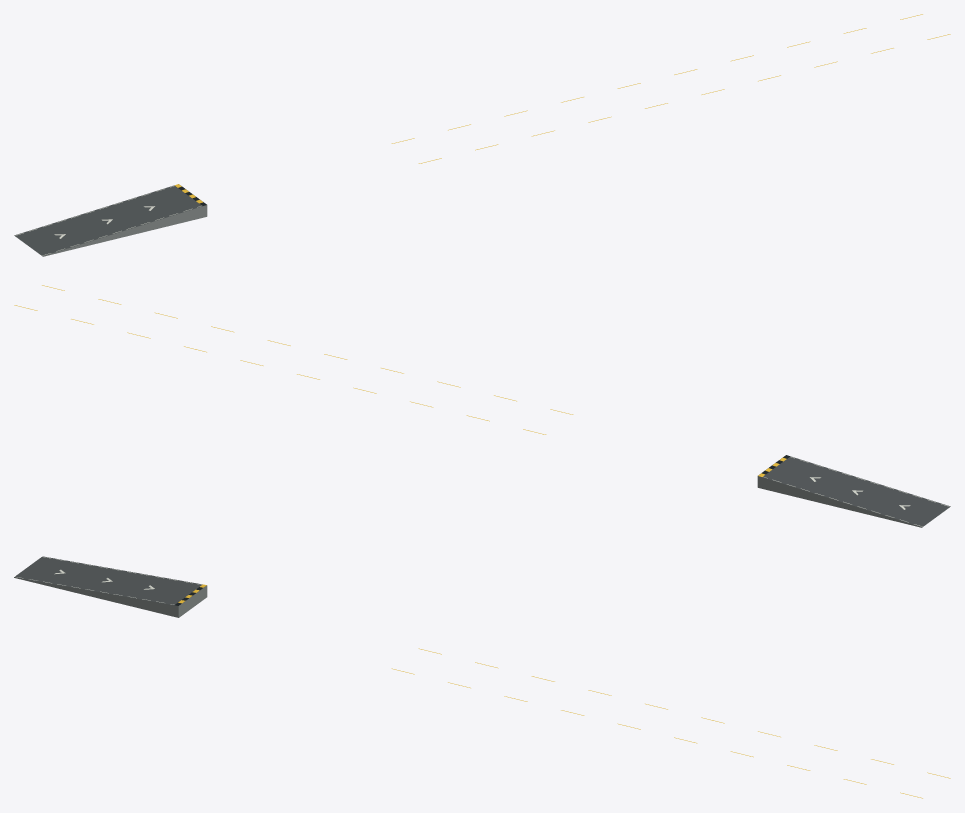
Rendered from Highland_AirtimeRamp.glb.
3 renders of one model, top to bottom at view 1: azimuth 30°, elevation 25°; view 2: azimuth 150°, elevation 25°; view 3: azimuth 330°, elevation 25°, orthographic.
Visible parts, largest first — view 1: Highland_AirtimeRamp_Ramp_asphalt_aggregate, Highland_AirtimeRamp_Ramp_precast_side_concrete, Highland_AirtimeRamp_Ramp_hazard_warm_yellow; view 2: Highland_AirtimeRamp_Ramp_asphalt_aggregate, Highland_AirtimeRamp_Ramp_precast_side_concrete, Highland_AirtimeRamp_Ramp_hazard_warm_yellow; view 3: Highland_AirtimeRamp_Ramp_asphalt_aggregate, Highland_AirtimeRamp_Ramp_precast_side_concrete, Highland_AirtimeRamp_Ramp_hazard_warm_yellow.
Part boxes in pixels (bbox=[...]): Highland_AirtimeRamp_Ramp_asphalt_aggregate: bbox=[14, 185, 206, 256]; Highland_AirtimeRamp_Ramp_precast_side_concrete: bbox=[42, 205, 207, 256]; Highland_AirtimeRamp_Ramp_hazard_warm_yellow: bbox=[174, 14, 950, 203]; Highland_AirtimeRamp_Ramp_asphalt_aggregate: bbox=[758, 456, 950, 527]; Highland_AirtimeRamp_Ramp_precast_side_concrete: bbox=[757, 476, 922, 527]; Highland_AirtimeRamp_Ramp_hazard_warm_yellow: bbox=[14, 285, 786, 476]; Highland_AirtimeRamp_Ramp_asphalt_aggregate: bbox=[14, 556, 206, 605]; Highland_AirtimeRamp_Ramp_precast_side_concrete: bbox=[14, 577, 207, 617]; Highland_AirtimeRamp_Ramp_hazard_warm_yellow: bbox=[178, 584, 950, 798].
Bounding box in the file's own units: 193 × 2.43 × 10.5.
